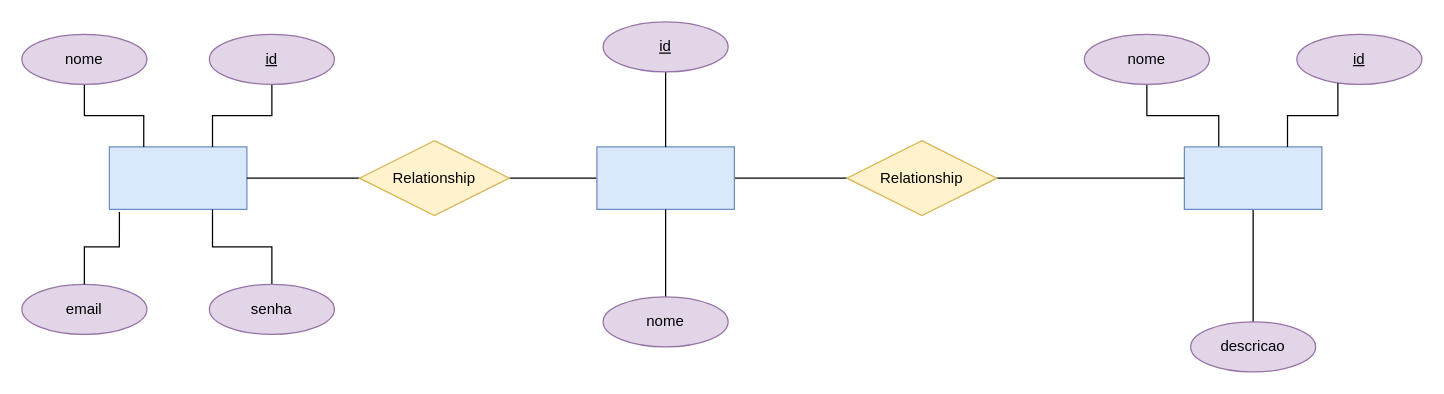
The diagram is 1444 pixels wide and 394 high, and some of its shapes have lost their labels. Each missing label, with the box of its shape:
atividades: (1183, 146, 1322, 209)
Professor: (108, 146, 247, 209)
sala_aula: (596, 146, 734, 209)
